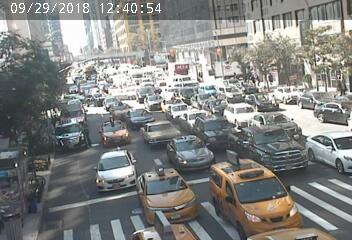car: (211, 170, 295, 228), (242, 124, 302, 165), (145, 172, 191, 214), (55, 122, 95, 154), (93, 155, 130, 187), (172, 140, 213, 168), (318, 135, 352, 167), (194, 118, 230, 147), (313, 100, 352, 124), (144, 122, 182, 144), (258, 110, 295, 132), (105, 122, 137, 144), (249, 90, 276, 112), (63, 103, 90, 125), (182, 111, 213, 130), (302, 92, 327, 113), (226, 104, 253, 123), (129, 108, 155, 127), (280, 84, 297, 103), (109, 105, 129, 119), (101, 95, 121, 108), (169, 105, 189, 116), (147, 94, 163, 107), (161, 99, 182, 108)
